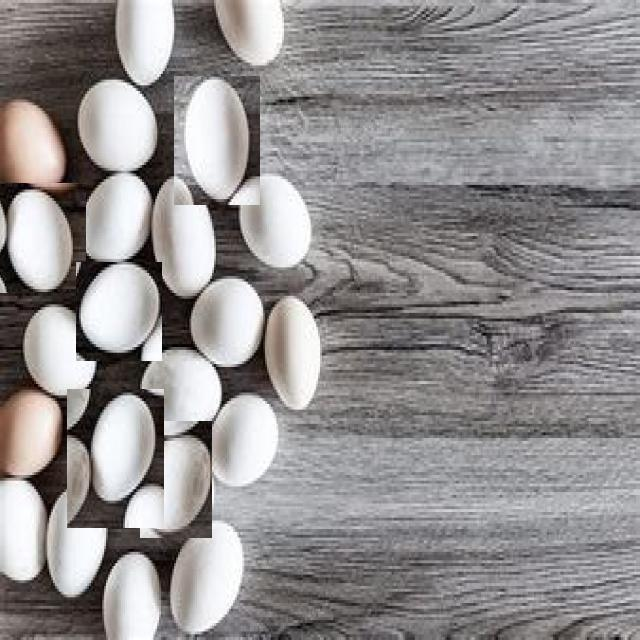Egg: (67, 389, 164, 528), (156, 511, 248, 636), (174, 76, 260, 205), (150, 159, 225, 301), (230, 162, 323, 274), (135, 341, 229, 444), (80, 61, 168, 170), (0, 184, 86, 294), (184, 260, 270, 368), (204, 382, 288, 492), (260, 287, 328, 419), (76, 262, 162, 361), (140, 421, 212, 538), (42, 478, 108, 598)
